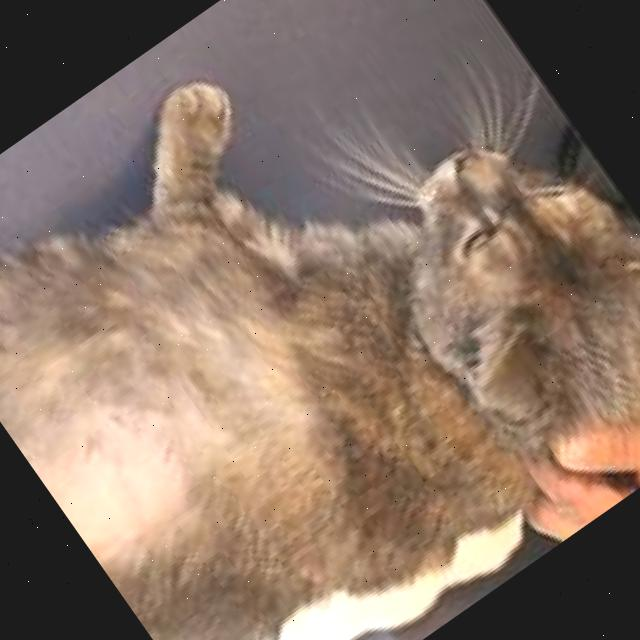cat-hairloss: (31, 399, 194, 566), (248, 348, 319, 432), (166, 376, 224, 444)
